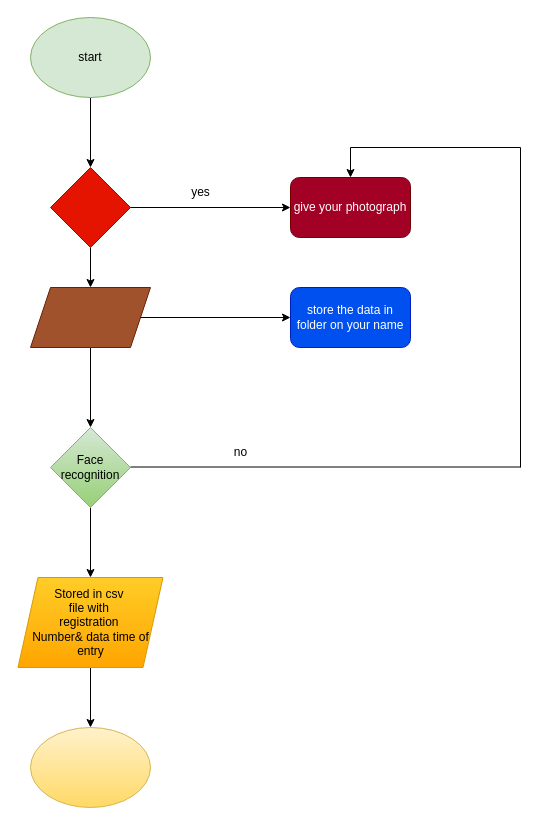
Some shapes in this 539 by 825 pixel diagram are drawn without their labels. The shapes that lost their labels are listed below. From the top down, each one's centre as x and y in pixels, then its label:
[90,207]: New user
[90,317]: Recognize the face
[90,767]: End
